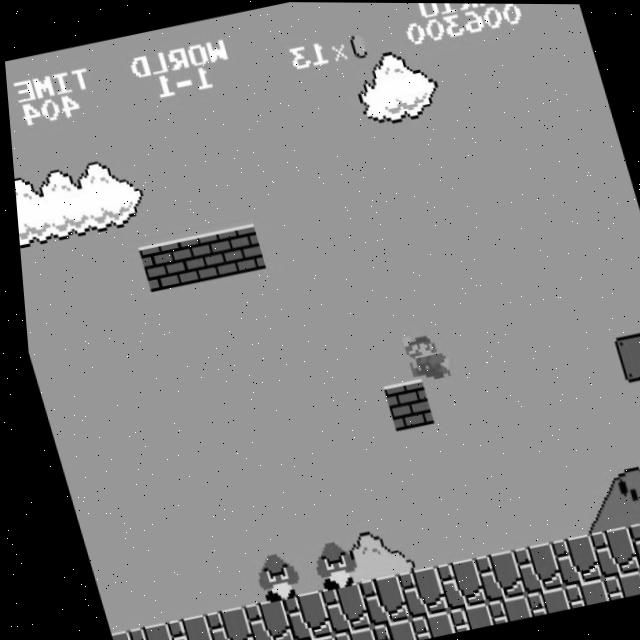1- brick_block: (374, 377, 428, 431), (171, 230, 224, 284), (210, 222, 263, 275), (133, 239, 185, 292)
11- little_mario: (394, 325, 449, 381)
17- undestructible_block: (347, 572, 401, 627), (501, 540, 555, 594), (424, 556, 478, 610), (579, 524, 632, 578), (540, 532, 593, 586), (463, 548, 516, 602), (386, 564, 439, 618), (309, 580, 362, 634), (270, 588, 323, 640), (231, 596, 284, 640), (193, 604, 245, 640), (552, 576, 599, 608), (591, 568, 638, 599), (514, 585, 561, 616), (475, 593, 522, 624), (437, 601, 484, 632), (398, 609, 445, 640), (154, 613, 206, 640), (617, 515, 640, 570), (359, 617, 406, 640), (115, 620, 166, 640), (321, 625, 367, 640), (282, 632, 328, 640), (99, 628, 127, 640), (630, 560, 640, 592)
3- empty_block: (606, 328, 640, 383)
8- goomba: (299, 535, 355, 592), (241, 547, 297, 604)
